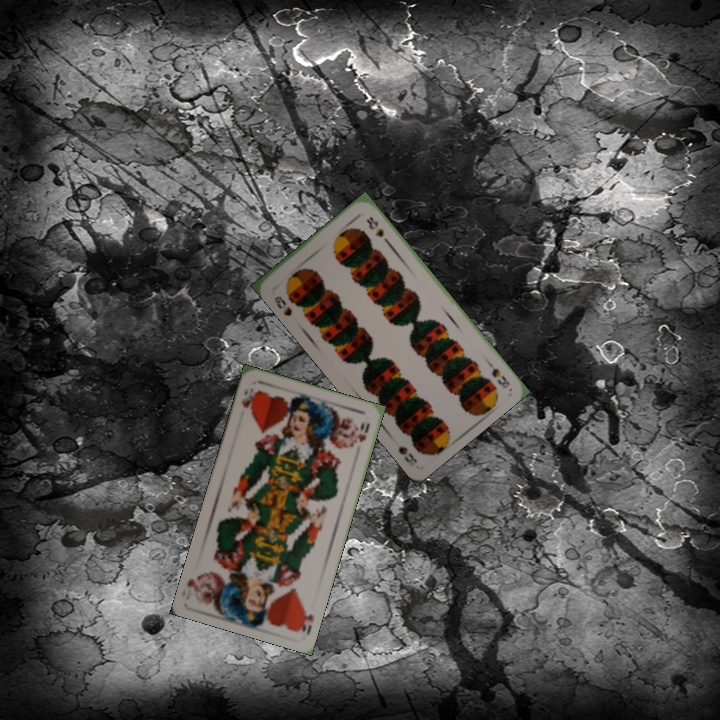HO: (237, 384, 260, 413), (298, 603, 316, 637)
S8: (481, 355, 512, 391), (270, 292, 295, 319)
